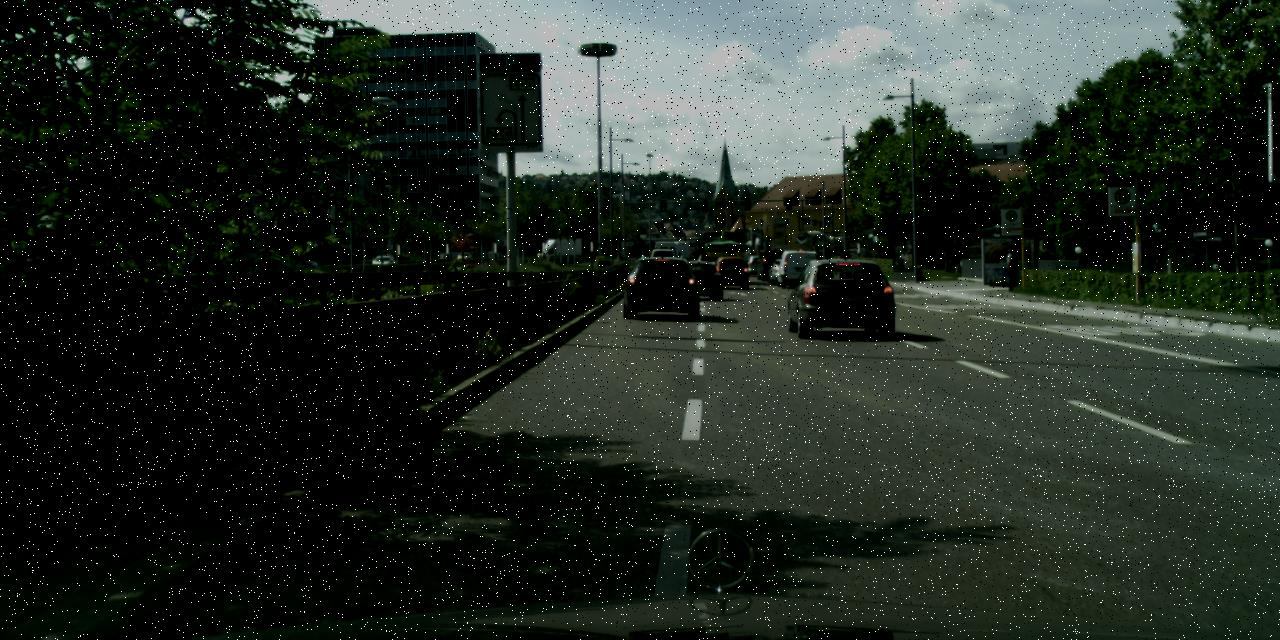ped: (1002, 248, 1020, 291)
